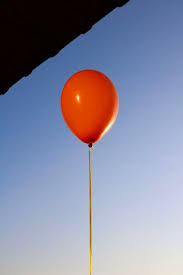Balloon: (60, 69, 119, 143)
